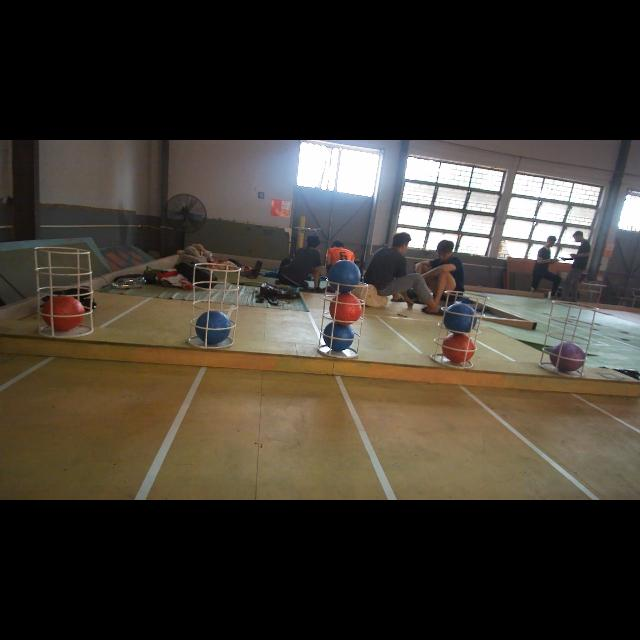B: (194, 307, 230, 343), (442, 302, 478, 334), (328, 260, 362, 292), (322, 322, 353, 352)
R: (42, 295, 84, 331), (328, 294, 360, 324), (444, 332, 471, 364)
